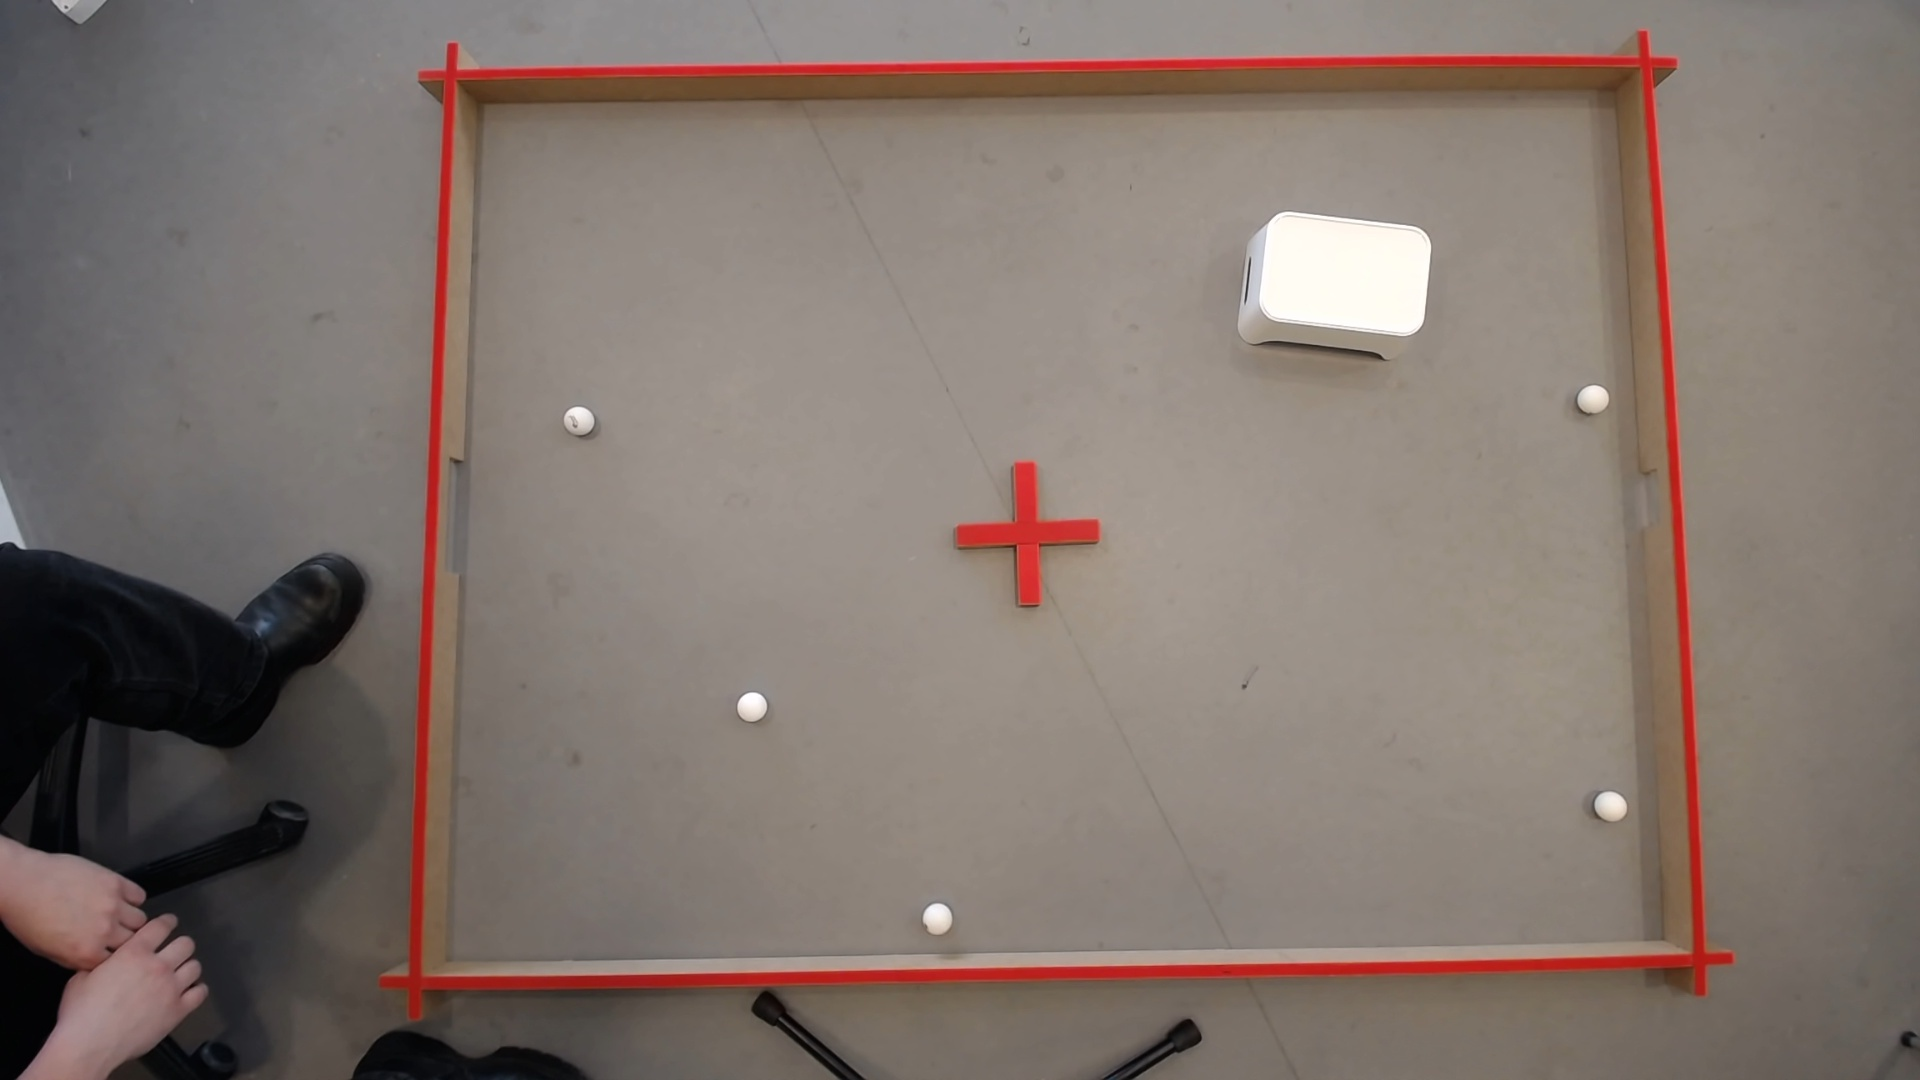balls: (1254, 207, 1433, 338), (733, 684, 770, 723), (1593, 785, 1629, 819), (1576, 378, 1610, 413), (919, 899, 953, 931)
car: (562, 401, 595, 427)
